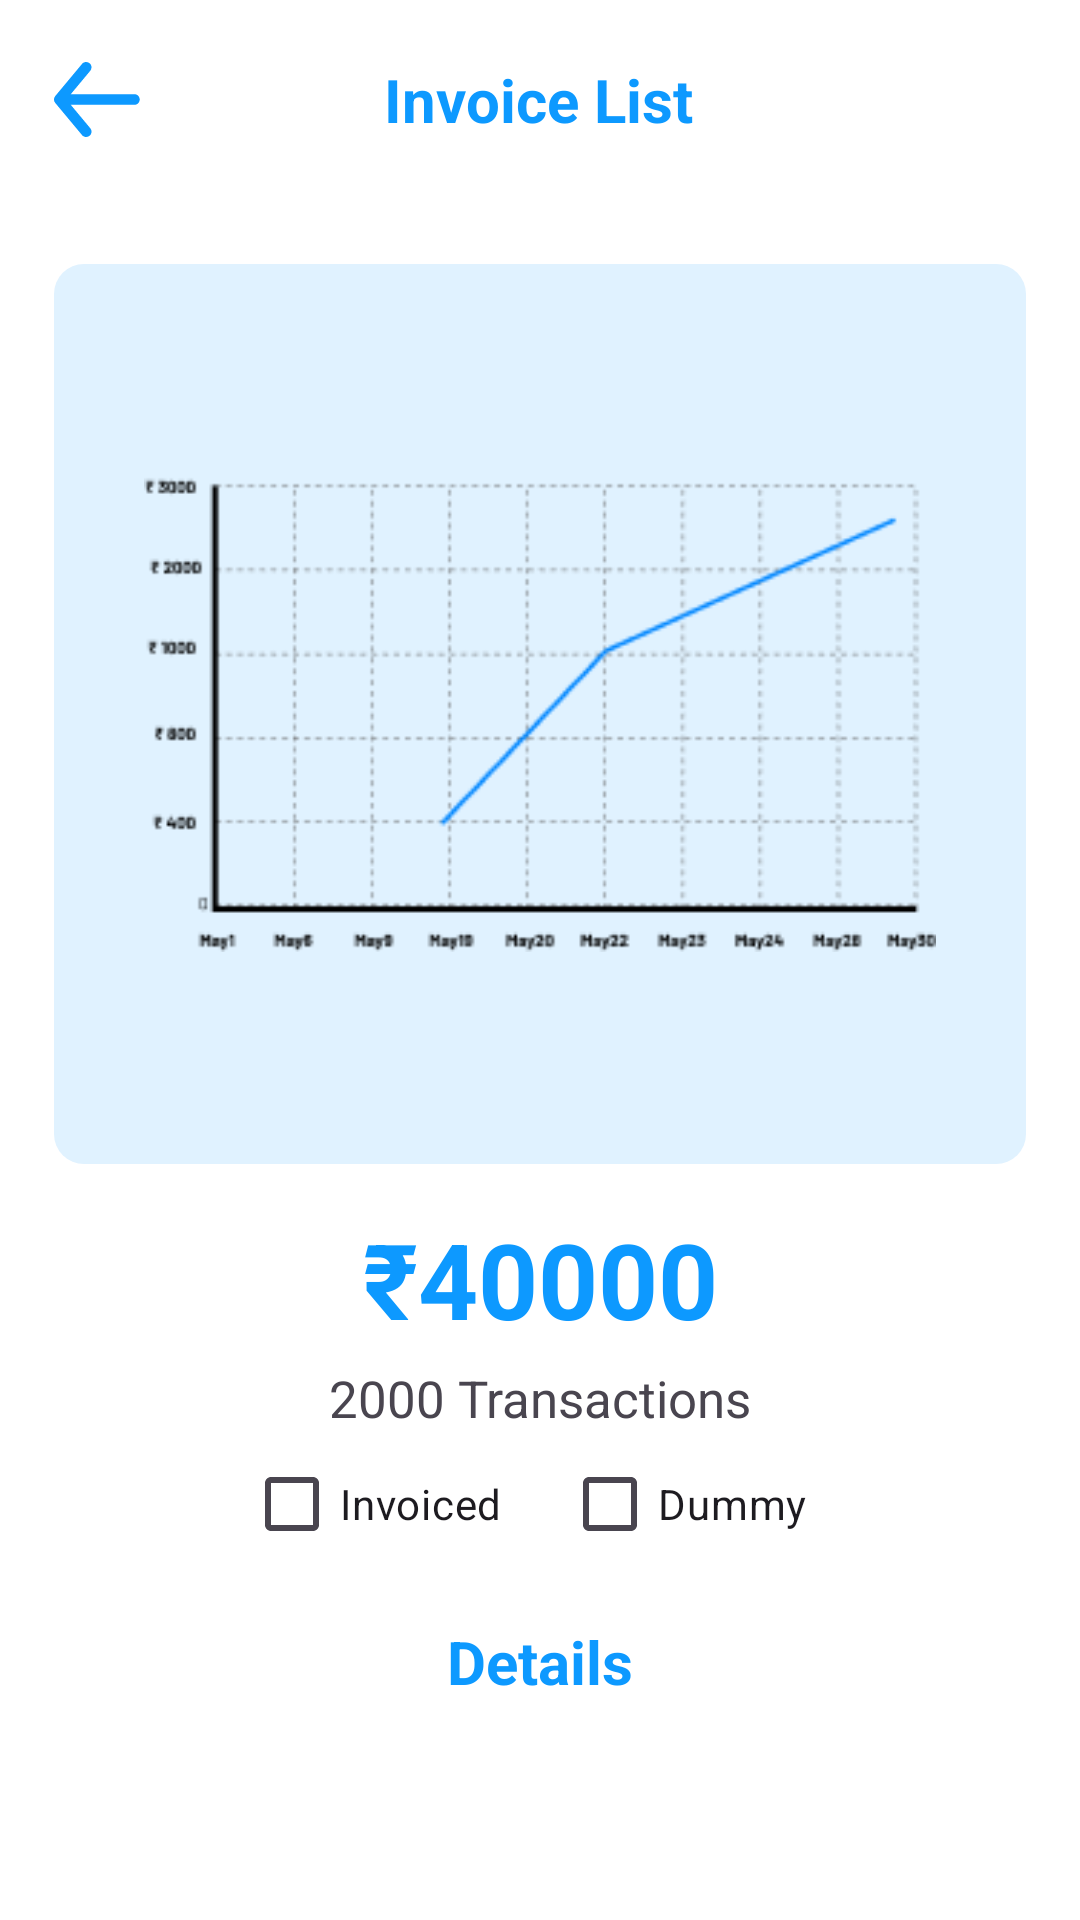

Screen size 1080x1920. Icon name, then its center in pixels as (x=x, y=y):
left arrow: (x=97, y=99)
